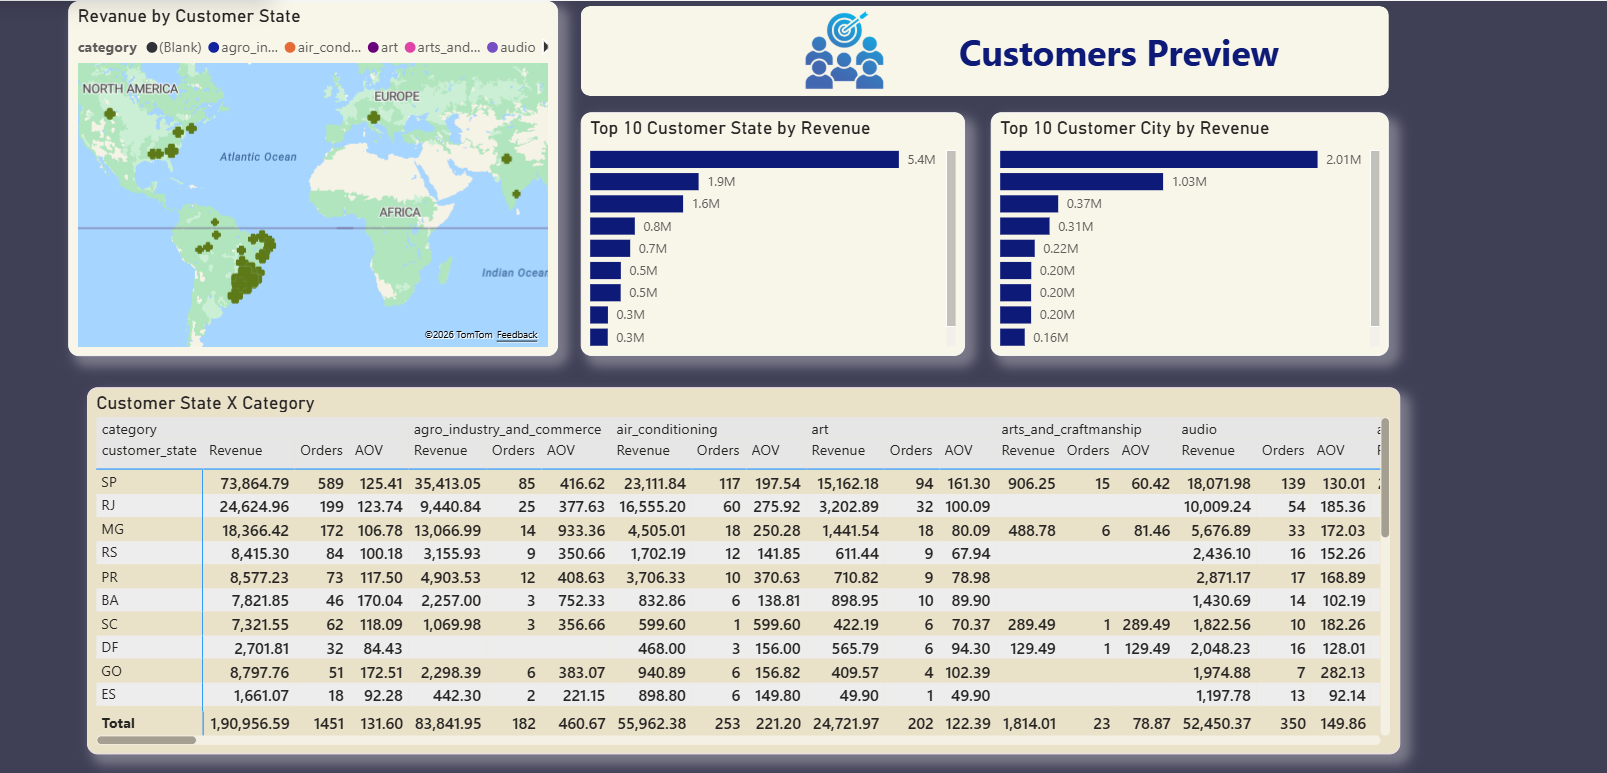

This screenshot's page, from the dashboard's own definition file:
{"tool":"powerbi","page":{"name":"Customers Geo","canvas":[1280,720],"ordinal":3},"visuals":[{"type":"azureMap","title":" Revanue by Customer State","fields":{"Series":["public bi_fact_sales.category"],"Category":["public bi_fact_sales.customer_state"],"Size":["public bi_fact_sales.Revenue"]},"box":[15.6,0,456.5,331.4],"z":0},{"type":"clusteredBarChart","title":"Top 10 Customer State by Revenue","fields":{"Y":["public bi_fact_sales.Revenue"],"Category":["public bi_fact_sales.customer_state"]},"box":[493.5,103.8,358.4,227.6],"z":1000},{"type":"pivotTable","title":"Customer State X Category ","fields":{"Values":["public bi_fact_sales.Revenue","public bi_fact_sales.Orders","public bi_fact_sales.AOV"],"Rows":["public bi_fact_sales.customer_state"],"Columns":["public bi_fact_sales.category"]},"box":[32.7,359.8,1224.5,342.8],"z":2000},{"type":"clusteredBarChart","title":"Top 10 Customer City by Revenue","fields":{"Y":["public bi_fact_sales.Revenue"],"Category":["public bi_fact_sales.customer_city"]},"box":[876.1,103.8,371.2,227.6],"z":3000},{"type":"shape","box":[493.5,4.3,753.8,83.9],"z":4000},{"type":"image","box":[672.7,8.5,132.3,75.4],"z":5000}]}

Visuals, with their boxes in screenshot pixels (x1, y1, x2, y2):
" Revanue by Customer State" azureMap: region(71, 0, 555, 351)
"Top 10 Customer State by Revenue" clusteredBarChart: region(578, 110, 958, 351)
"Customer State X Category " pivotTable: region(89, 382, 1388, 745)
"Top 10 Customer City by Revenue" clusteredBarChart: region(983, 110, 1377, 351)
shape: region(578, 5, 1377, 94)
image: region(768, 9, 908, 89)
